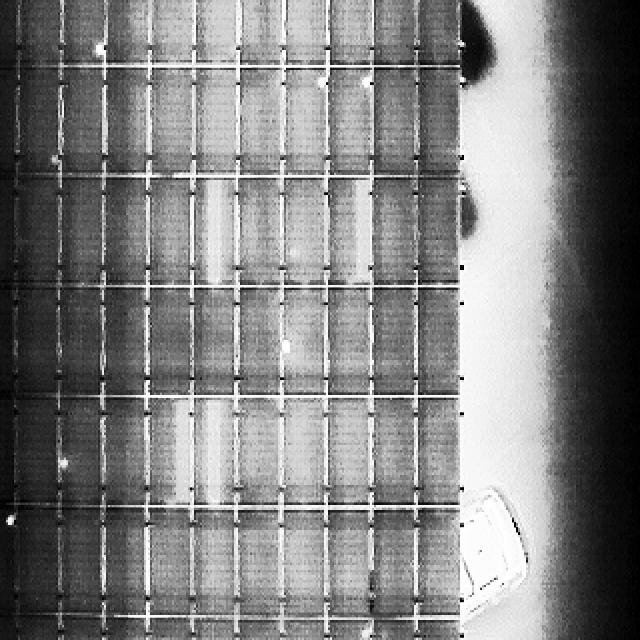Hotspots: (200, 396, 223, 515), (200, 175, 223, 288), (351, 172, 374, 284), (170, 398, 190, 513), (90, 38, 108, 58), (47, 149, 62, 170), (279, 335, 293, 356), (57, 452, 71, 473), (314, 74, 329, 91), (359, 73, 372, 90), (6, 509, 16, 530)
PV-modules: (415, 511, 464, 619), (232, 396, 280, 506), (278, 397, 326, 507), (368, 290, 416, 400), (278, 512, 326, 620), (233, 290, 281, 398), (369, 66, 416, 176), (416, 70, 463, 180), (193, 65, 240, 175), (233, 512, 281, 619), (369, 179, 416, 288), (192, 289, 239, 398), (328, 65, 374, 176), (239, 65, 285, 176), (13, 395, 59, 506), (105, 66, 152, 174), (279, 179, 326, 287), (327, 291, 374, 399), (234, 178, 281, 286), (146, 290, 192, 400), (280, 66, 326, 176), (150, 397, 196, 506), (373, 397, 419, 506), (416, 397, 462, 506), (59, 65, 105, 174), (192, 178, 238, 287), (416, 289, 462, 398), (149, 65, 194, 176), (278, 291, 326, 395), (192, 512, 239, 618), (326, 179, 372, 287), (104, 178, 150, 286), (416, 177, 461, 287), (59, 509, 105, 616), (193, 397, 238, 506), (327, 398, 372, 507), (14, 65, 59, 174), (17, 176, 62, 285), (59, 397, 104, 506), (17, 508, 62, 617), (12, 289, 57, 398), (326, 513, 372, 619), (104, 398, 149, 506), (150, 510, 195, 618), (104, 510, 149, 618), (104, 291, 149, 399), (60, 178, 105, 286), (59, 290, 104, 398), (151, 178, 195, 286), (374, 512, 418, 619), (104, 0, 150, 70), (326, 0, 372, 70), (280, 0, 326, 70), (194, 0, 242, 65), (20, 0, 64, 68), (374, 0, 418, 68), (236, 0, 282, 65), (60, 0, 106, 65), (416, 0, 460, 65), (152, 0, 196, 65), (0, 65, 18, 175), (0, 176, 17, 285), (0, 507, 17, 616), (0, 289, 17, 398), (0, 392, 14, 502), (0, 0, 20, 65), (13, 618, 59, 640), (59, 618, 106, 639), (105, 619, 152, 640), (147, 620, 192, 640), (414, 622, 462, 640), (280, 621, 328, 639), (192, 622, 239, 640), (233, 622, 280, 640), (368, 622, 416, 639), (326, 621, 371, 639), (0, 614, 18, 639)
